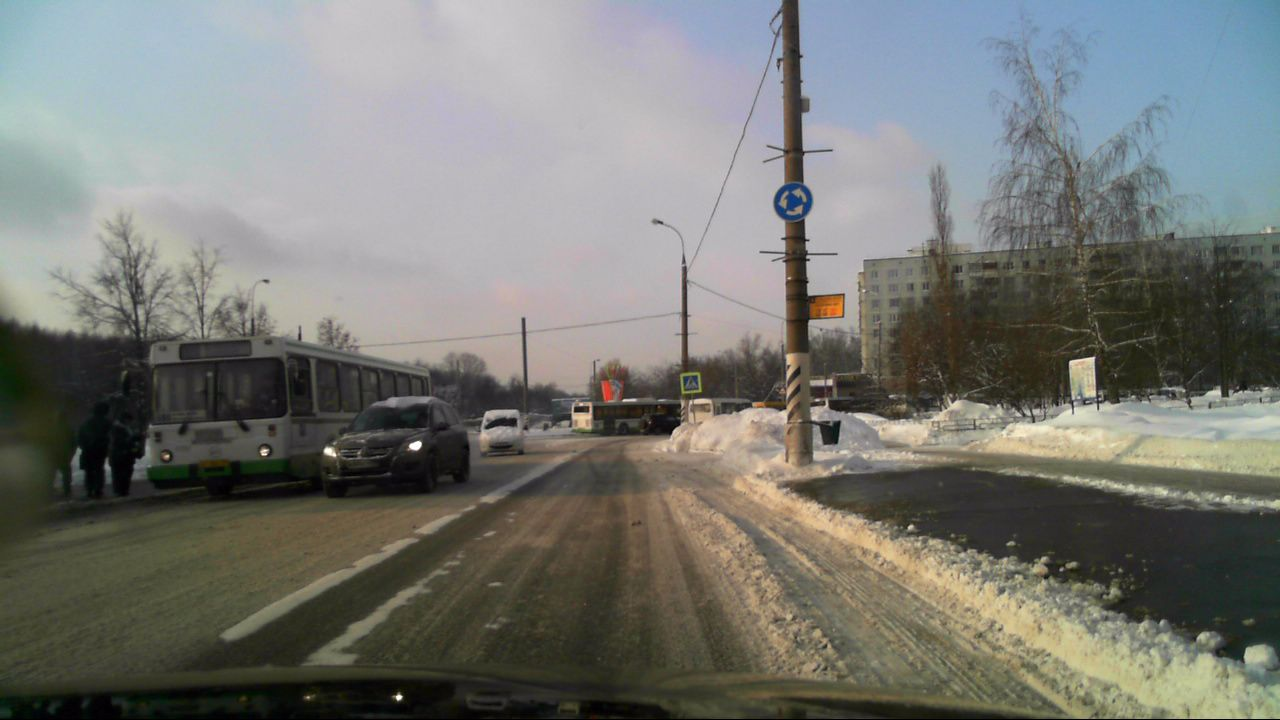Round-About: (772, 179, 814, 224)
